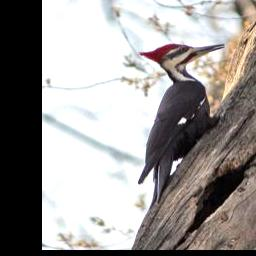Woodpecker: (136, 43, 229, 206)
